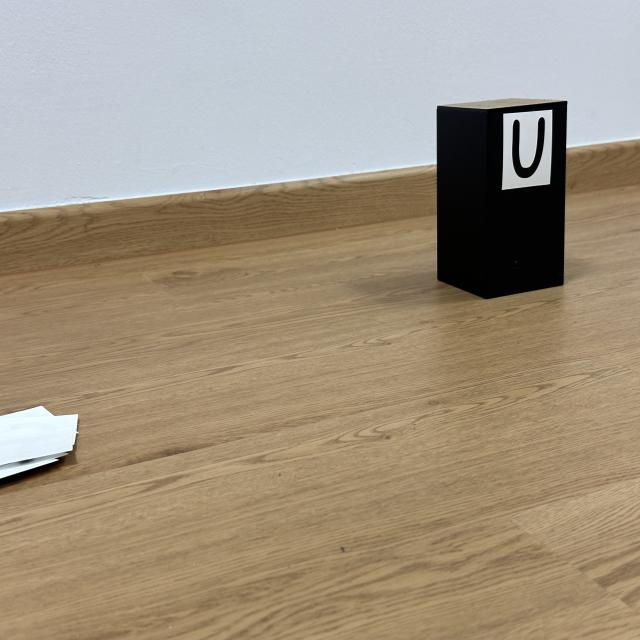U: (512, 117, 545, 178)
